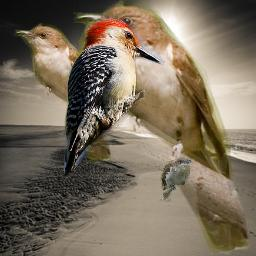Cuckoo: (73, 0, 250, 255), (14, 23, 111, 163), (160, 156, 192, 202)
Woodpecker: (64, 18, 166, 177)
